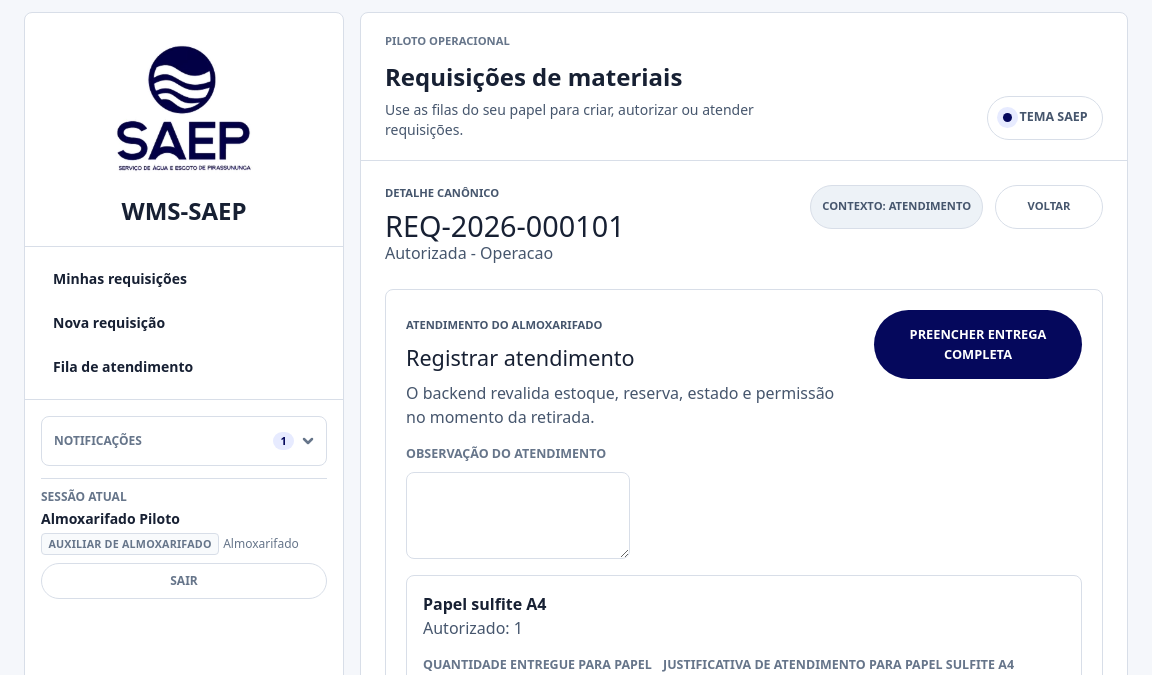
frontend pilot router › fulfills all authorized items from fulfillment context
Expected: the heading "REQ-2026-000101" is shown, [385,210,625,241]
Type "Retirada no balcão" into the text box labelled "Observação do atendimento" at [518, 515], box [406,472,630,559]
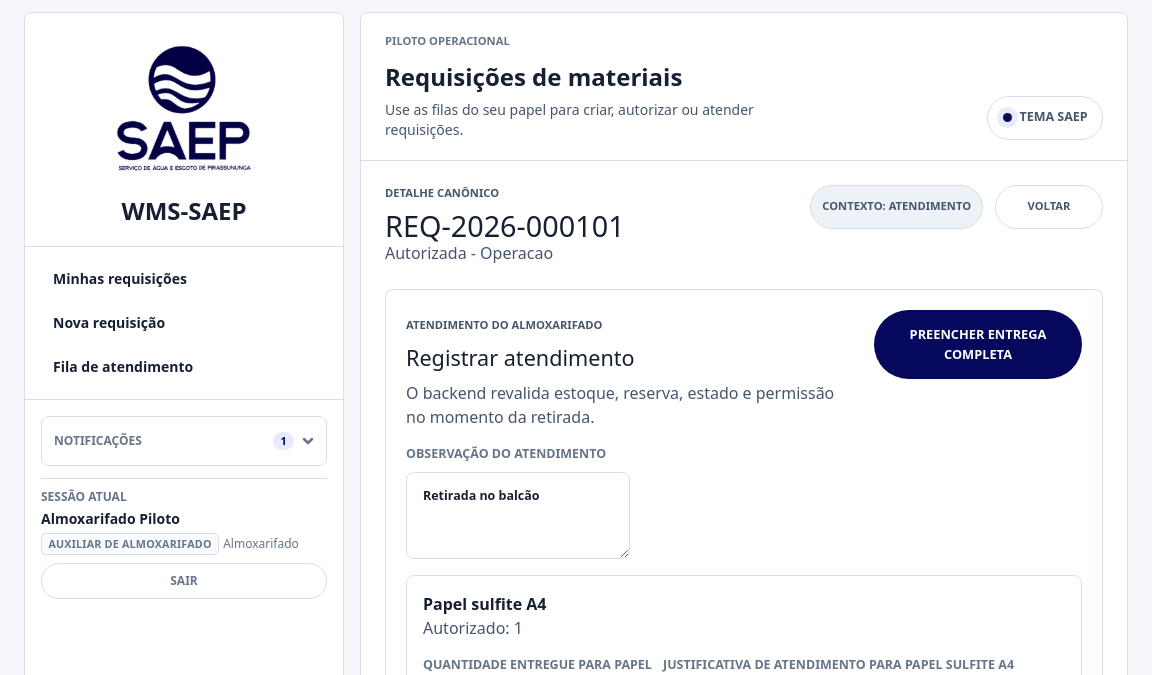
Click the button "Preencher entrega completa" at [978, 345], box [874,310,1082,379]
(page scrolled)
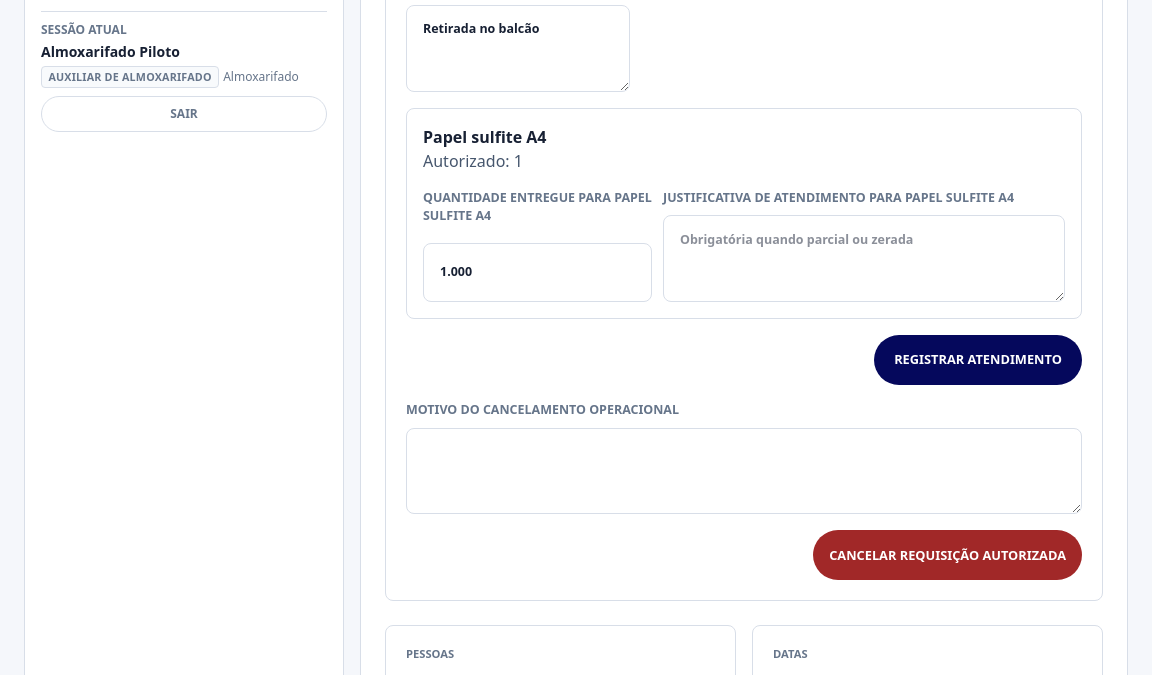
Click the button "Registrar atendimento" at [978, 360], box [874,335,1082,385]
(page scrolled)
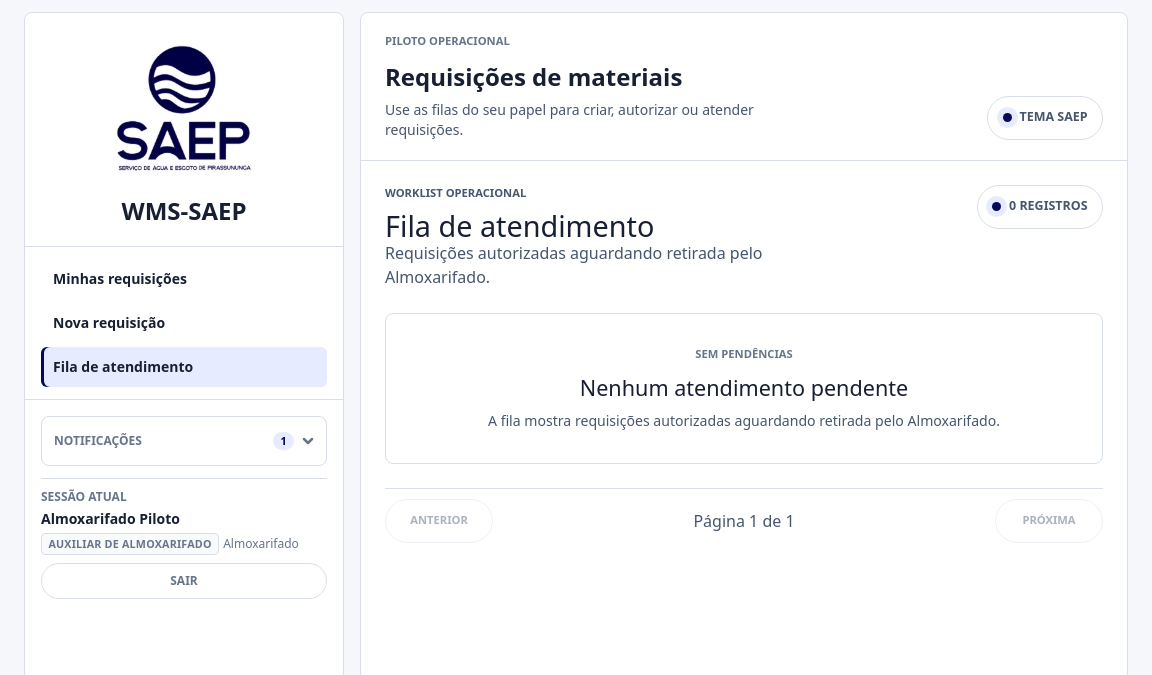
Now the heading "Nenhum atendimento pendente" is shown, box [580,373,908,402]
